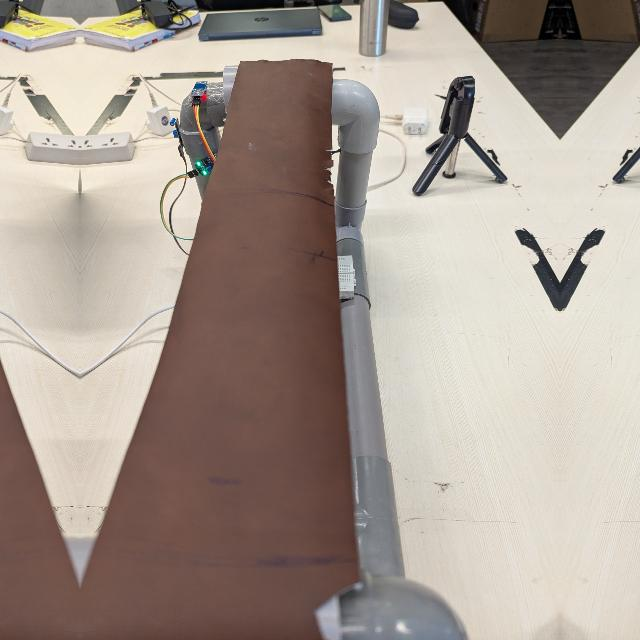belt_tear: (307, 576, 367, 640)
edge_damage: (318, 145, 339, 201)
